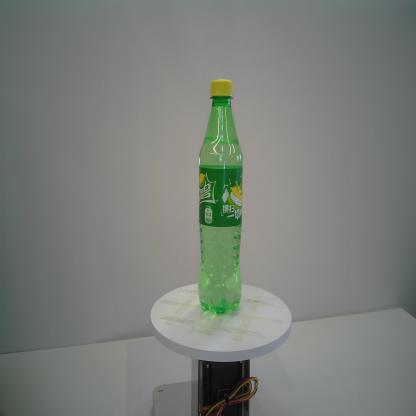Drink: (195, 75, 245, 318)
